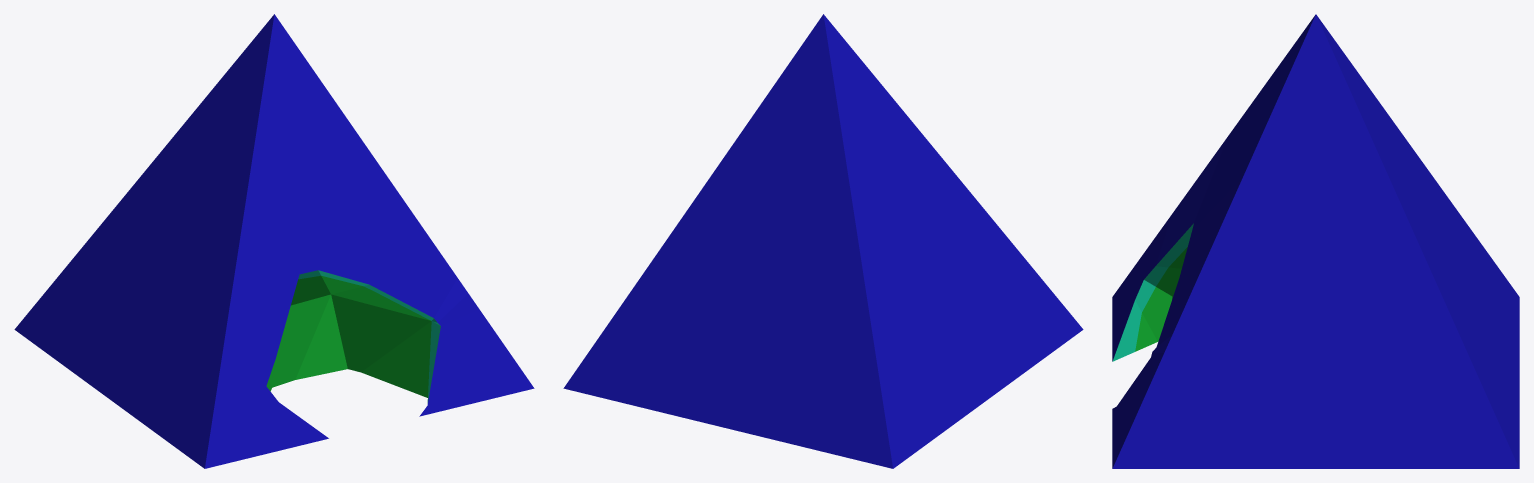
The model's file is DeformedPyramid (1).fbx.
The picture shows the model from 3 angles, left to right: view 1: azimuth 30°, elevation 25°; view 2: azimuth 150°, elevation 25°; view 3: azimuth 270°, elevation 25°; orthographic projection. The views are drawn at different scales.
Parts seen in each view (by area): view 1: Cube; view 2: Cube; view 3: Cube.
Boxes of the visible parts, bbox=[...] form: Cube: bbox=[14, 14, 534, 468]; Cube: bbox=[563, 14, 1083, 468]; Cube: bbox=[1112, 14, 1519, 468].
Size of the model in its own units: 200 by 200 by 200.
